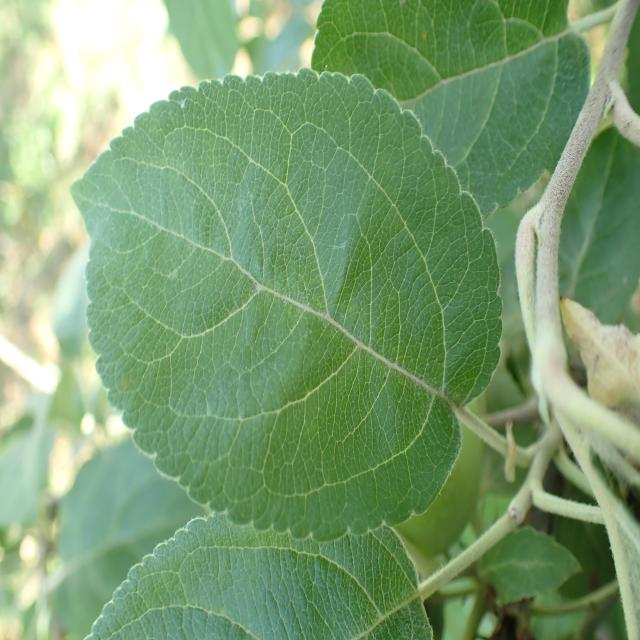healthy: (68, 68, 504, 544), (310, 0, 592, 221), (86, 512, 433, 640)
